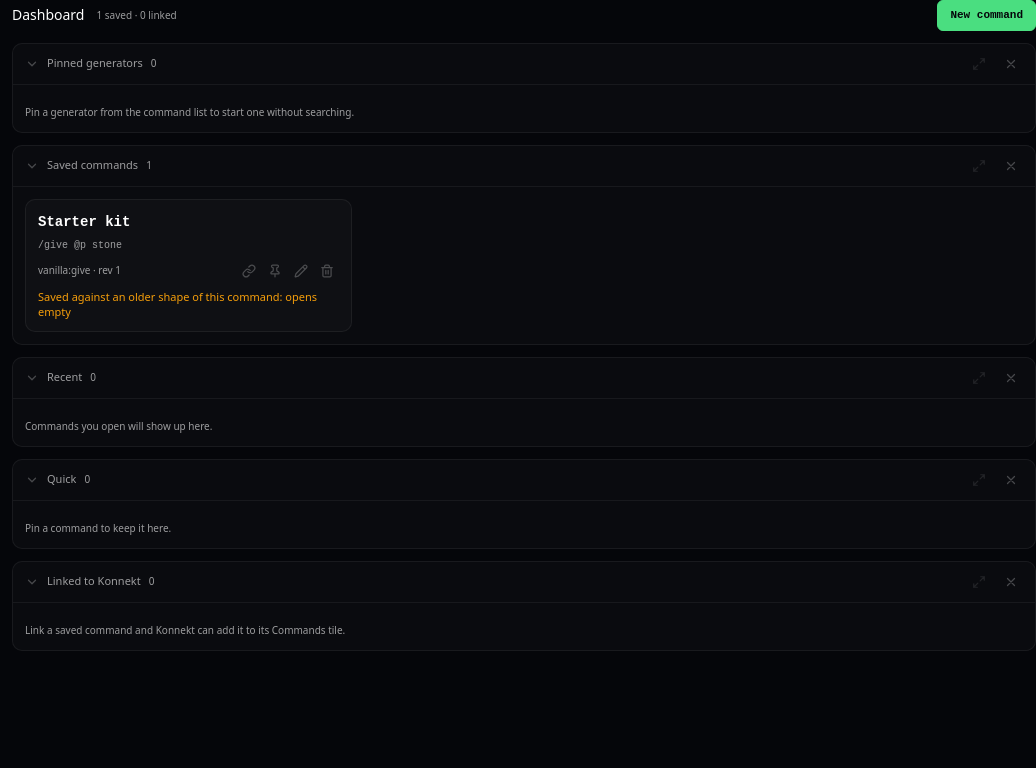
Test: linking a saved command is what puts it in the Linked panel, and saving is not
The width and height of the screenshot is (1036, 768).
Expected: the text "1 saved · 0 linked" is shown, [96,8,177,23]
Click the button named "Link Starter kit into Konnekt": (249, 270) [237,258,261,282]
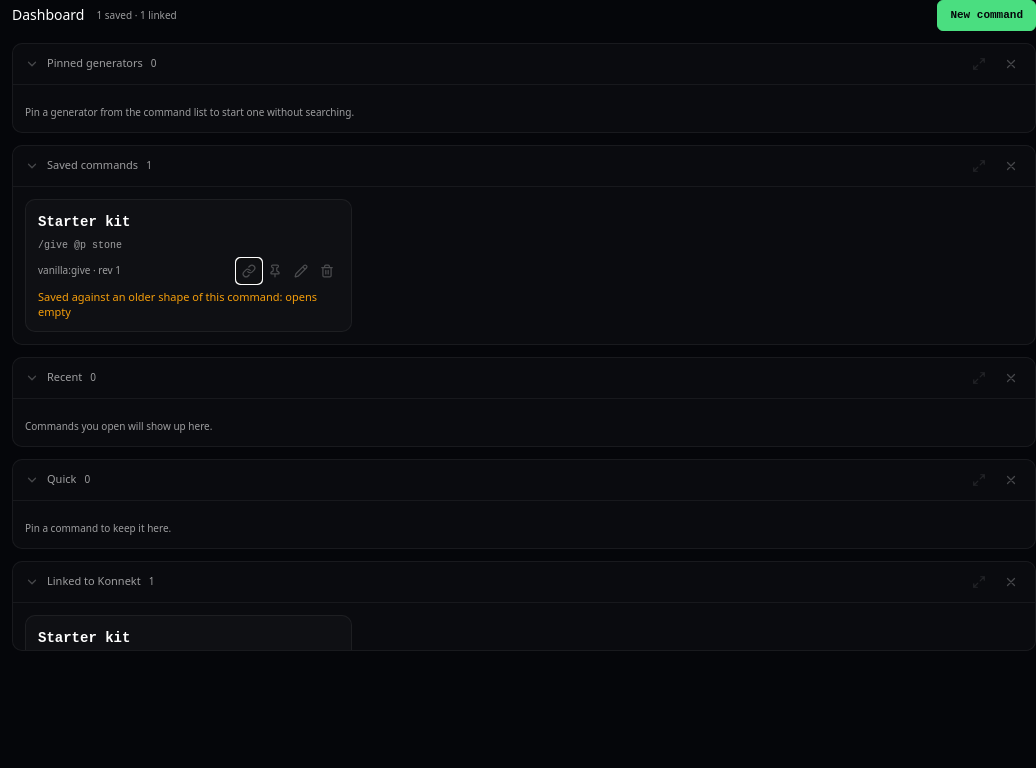
Expected: the text "1 saved · 1 linked" is shown, [96,8,177,23]
Click the button named "Unlink Starter kit from Konnekt": (249, 270) [237,258,261,282]
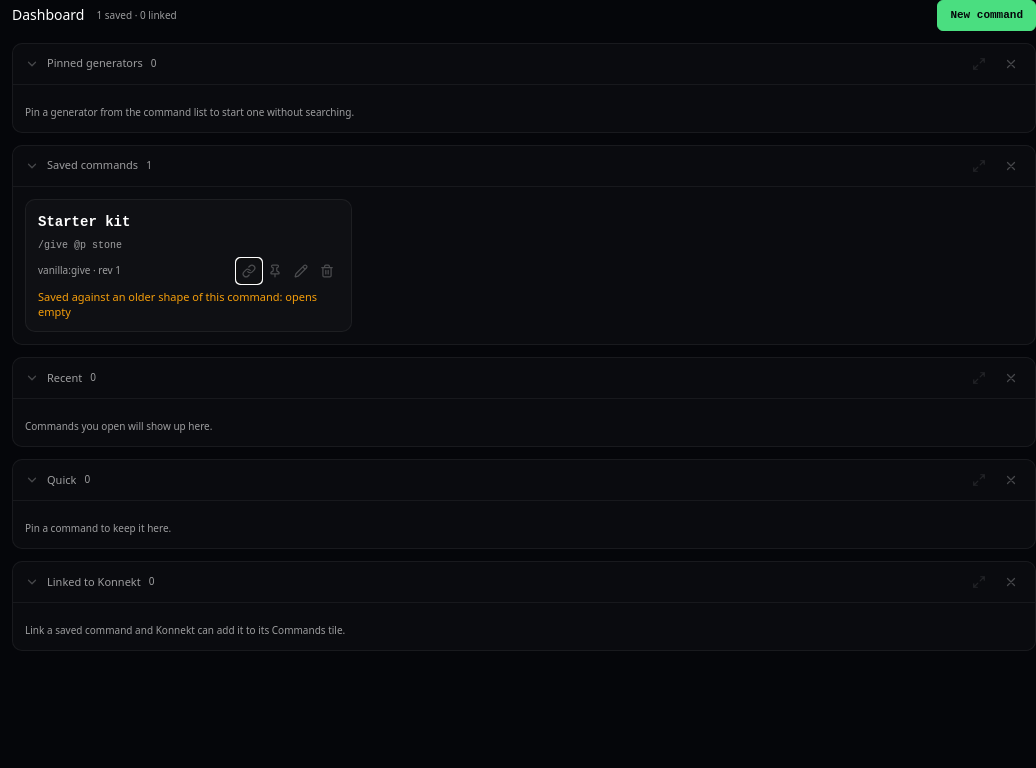
Expected: no the list item "Starter kit" are shown
